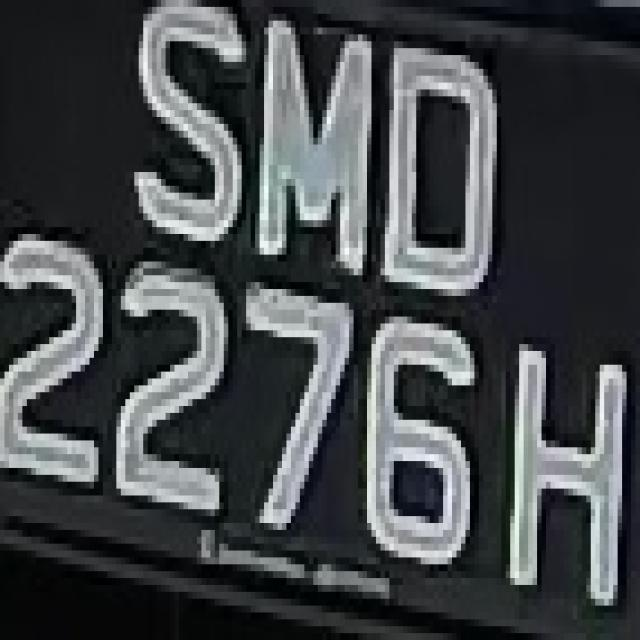2: (121, 220, 233, 558), (0, 213, 107, 529)
6: (358, 289, 479, 606)
7: (233, 241, 358, 550)
D: (367, 34, 506, 323)
H: (492, 303, 636, 626)
M: (246, 0, 385, 289)
S: (116, 7, 251, 275)
